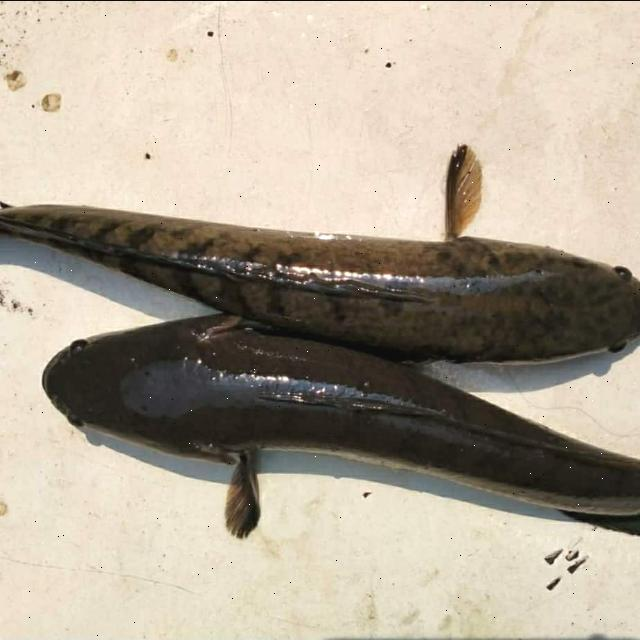Mulut: (21, 332, 97, 426)
Sirip Dada: (421, 122, 507, 258), (210, 427, 286, 555)
Sirip Punggung: (0, 211, 460, 323), (252, 372, 640, 494)
